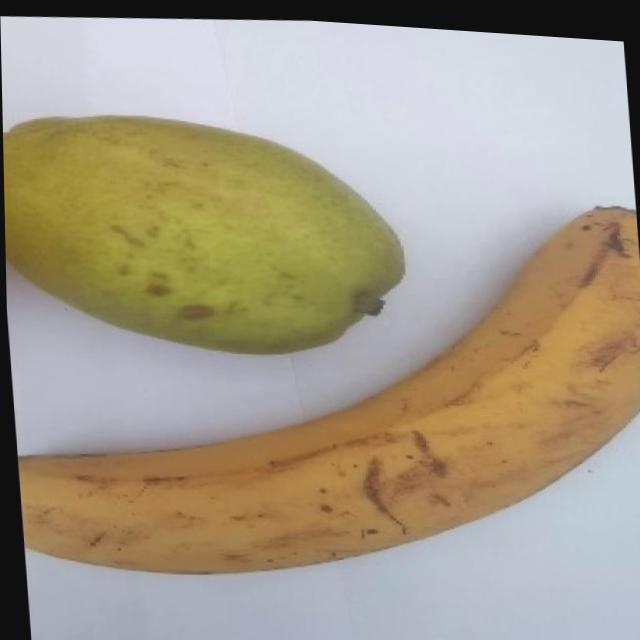Banana: (3, 162, 640, 605)
